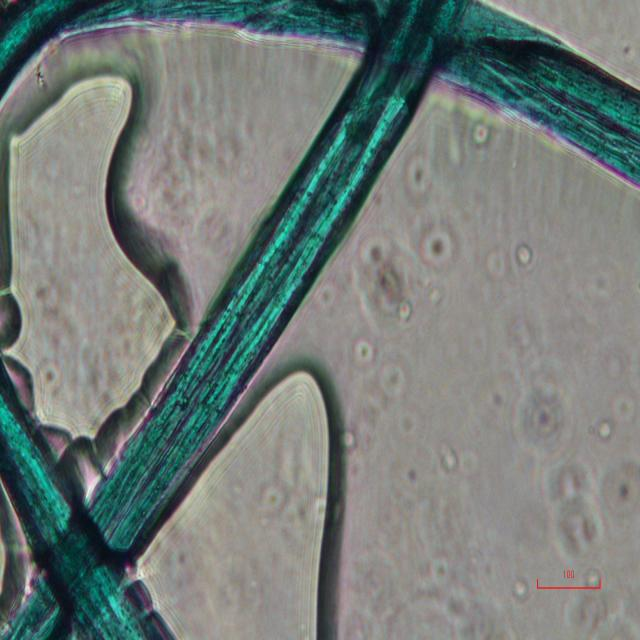Air bubble: (0, 64, 182, 438), (130, 371, 340, 633)
Background material: (518, 370, 606, 560), (146, 92, 239, 256), (392, 534, 486, 638), (354, 230, 418, 339), (556, 564, 635, 635), (349, 339, 409, 397), (604, 453, 640, 527), (420, 210, 462, 272), (254, 483, 306, 519), (411, 148, 439, 206), (434, 442, 458, 478), (466, 120, 492, 150), (514, 246, 536, 270), (594, 417, 612, 442), (514, 574, 526, 603)
Microfibre: (0, 0, 464, 637), (0, 0, 640, 187), (0, 350, 164, 639)
